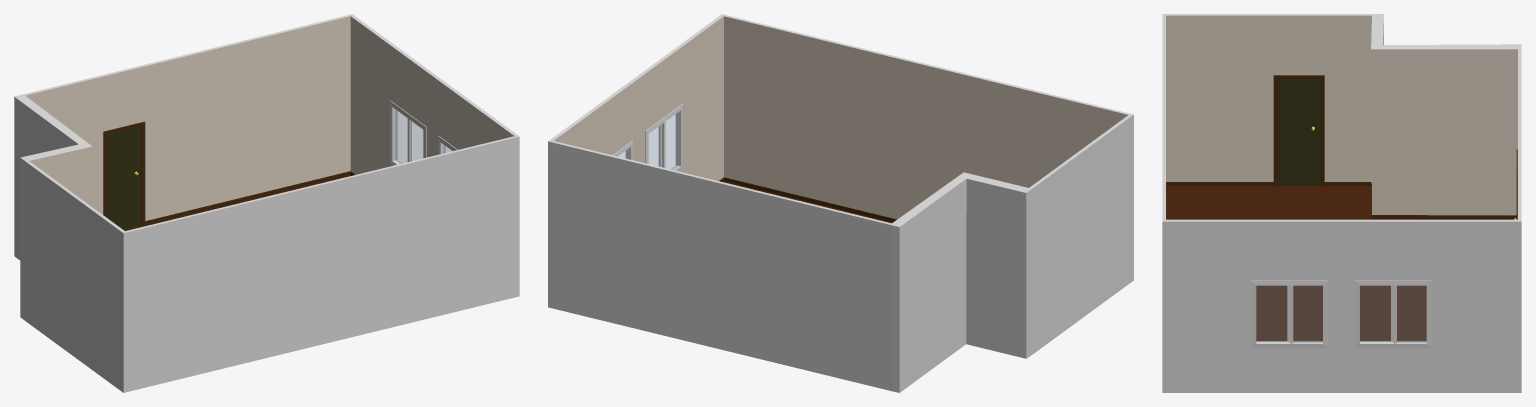
File: LivingRoomStructure.fbx
3 views of the same model, side by side, from view 1: azimuth 30°, elevation 25°; view 2: azimuth 150°, elevation 25°; view 3: azimuth 270°, elevation 25° (orthographic). The views are drawn at different scales.
Visible parts, largest first — view 1: LivingRoom; view 2: LivingRoom; view 3: LivingRoom.
Boxes of the visible parts, bbox=[...] form: LivingRoom: bbox=[14, 14, 519, 392]; LivingRoom: bbox=[548, 14, 1133, 392]; LivingRoom: bbox=[1162, 14, 1521, 392].
Bounding box in the file's own units: 845 × 617 × 325.
